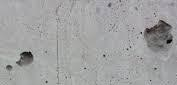Spalling: (143, 19, 174, 54), (15, 51, 33, 68), (5, 64, 13, 72)
